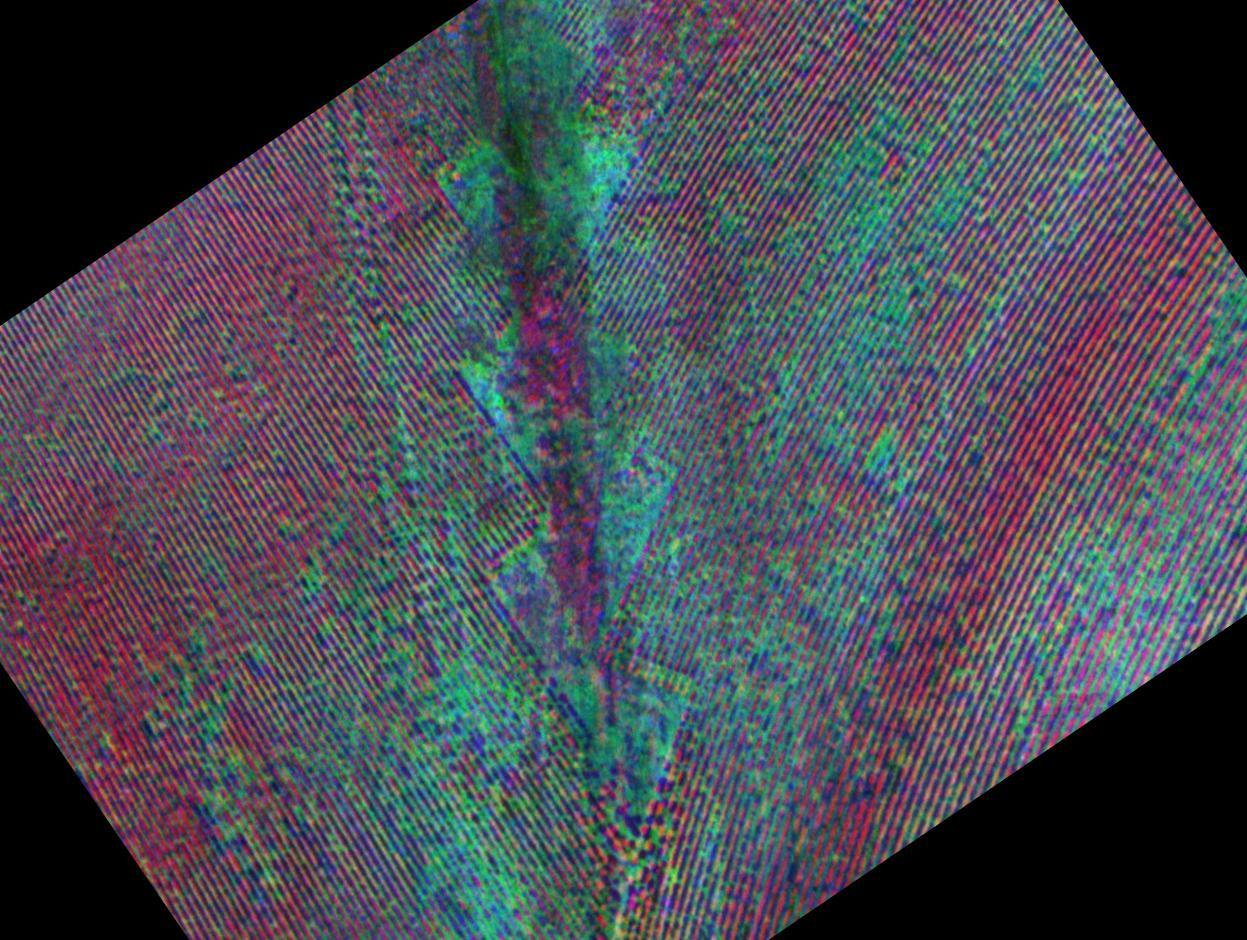dc: (798, 288, 899, 404), (426, 830, 521, 922), (428, 665, 515, 750), (823, 145, 893, 242), (518, 10, 575, 79), (571, 138, 622, 199)
